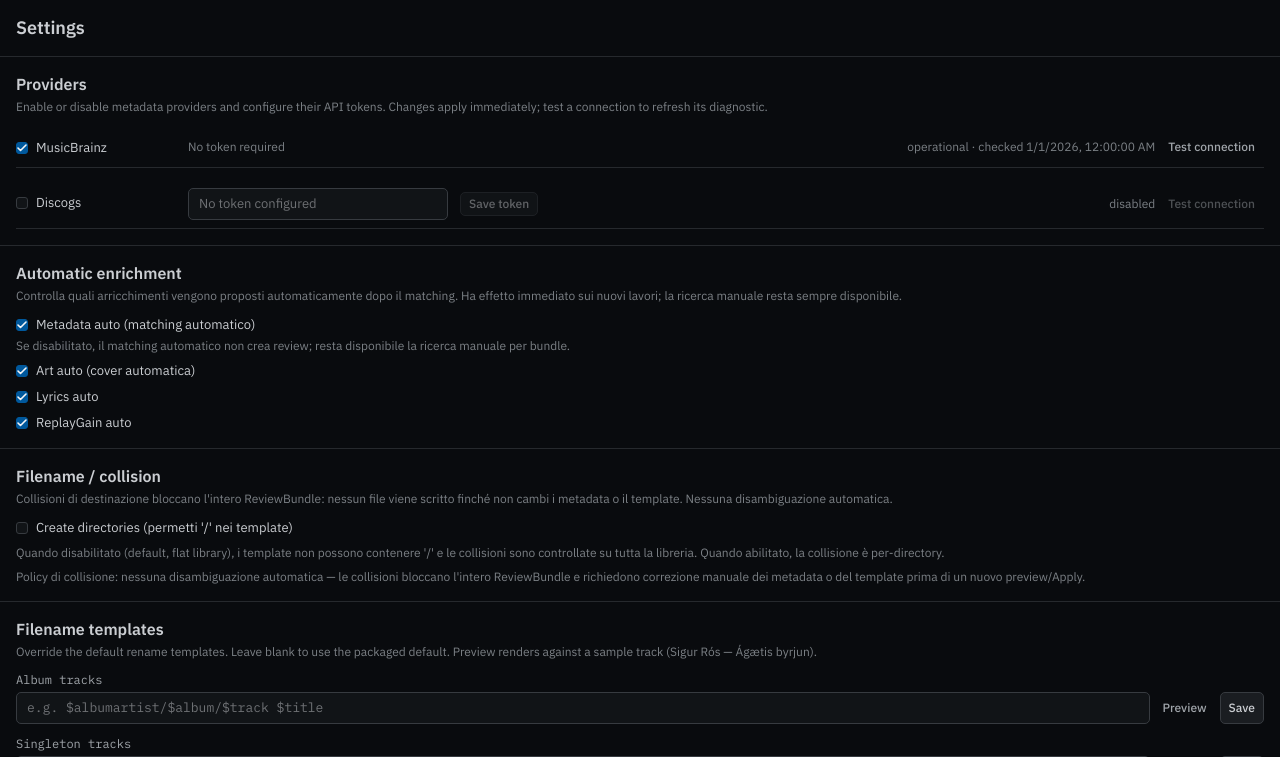
Test case: Settings › previewing a template shows the rendered sample path
The width and height of the screenshot is (1280, 757).
Expected: the text "Album tracks" is shown, [16,672,102,687]
Click the 1st button "Preview": coordinates (1185, 708) [1154,692,1216,724]
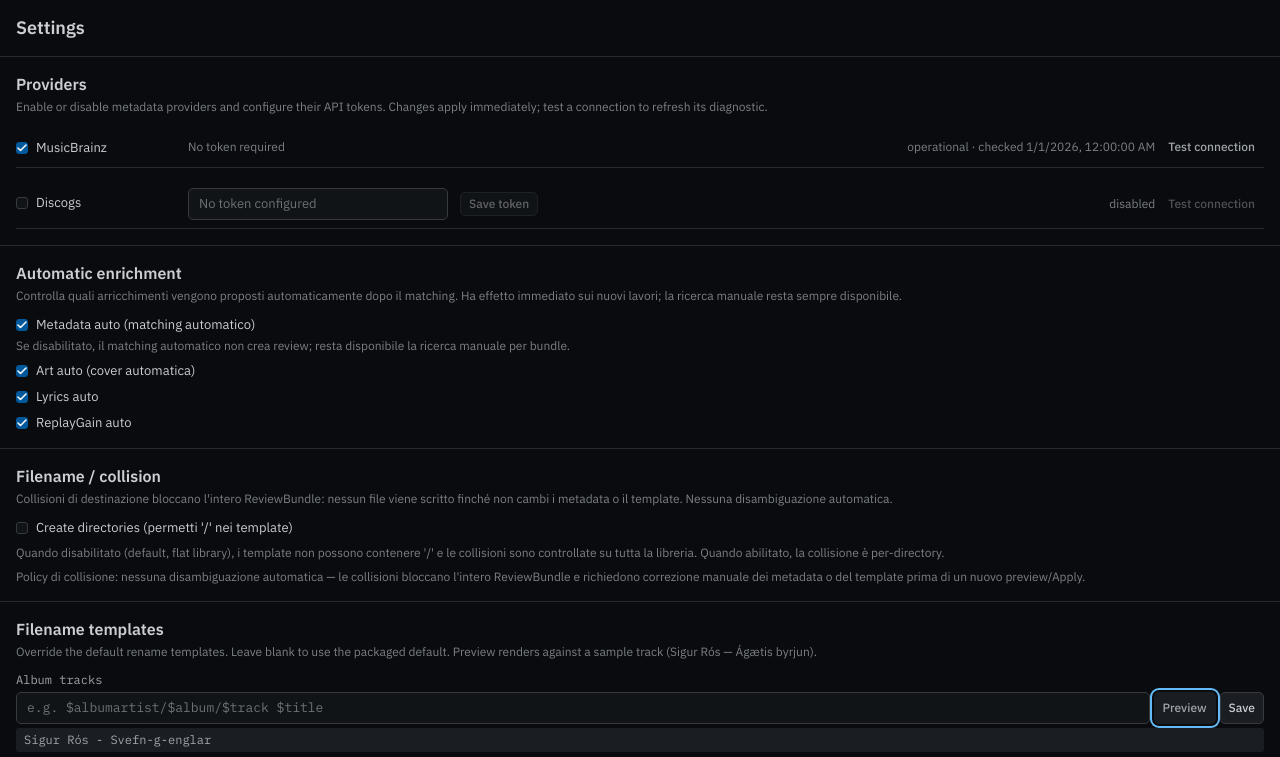
Expected: the text "Sigur Rós - Svefn-g-englar" is shown, [16,728,1264,752]
